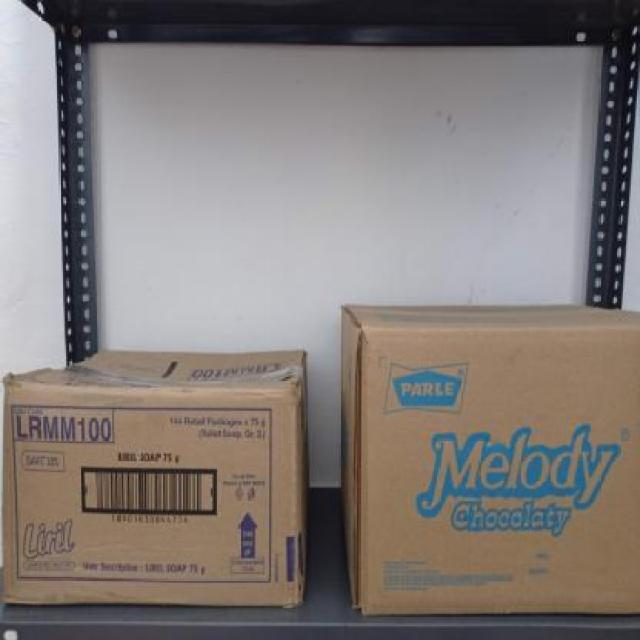box: (355, 327, 640, 613), (3, 393, 296, 604)
